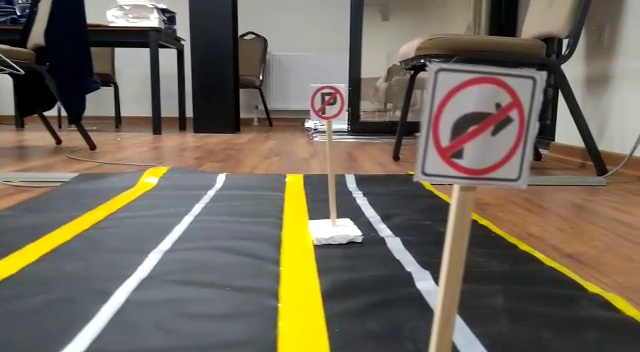park_yapilmaz: (310, 86, 347, 120)
saga_donulmez: (430, 65, 526, 181)
